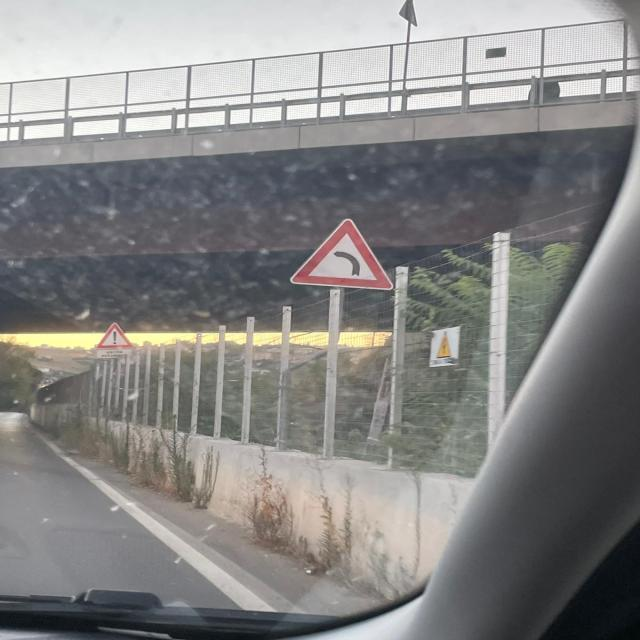warn_left_curve: (289, 217, 394, 292)
